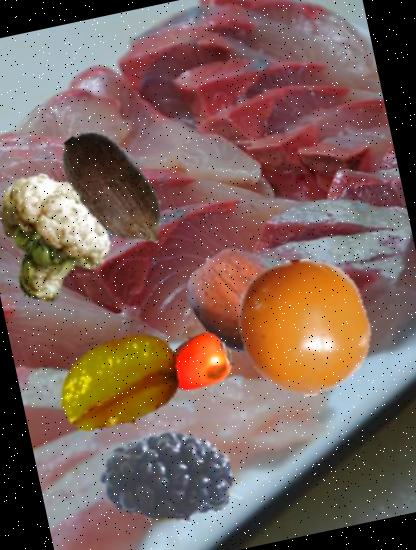Carambula: (45, 308, 197, 460)
Cauliflower: (0, 165, 128, 316)
Kaki: (156, 318, 241, 404)
Mulberry: (83, 374, 259, 550)
Nut: (33, 111, 194, 272), (175, 237, 303, 365)
Tomato: (223, 246, 387, 410)
